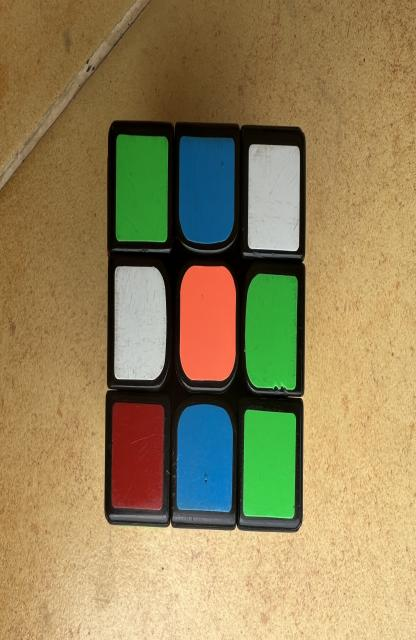Blue: (176, 403, 233, 512), (179, 135, 235, 243)
Green: (245, 273, 297, 390), (115, 133, 168, 242), (243, 410, 296, 518)
Orange: (180, 265, 236, 382)
Red: (111, 402, 164, 510)
White: (115, 267, 167, 380), (248, 143, 300, 252)
